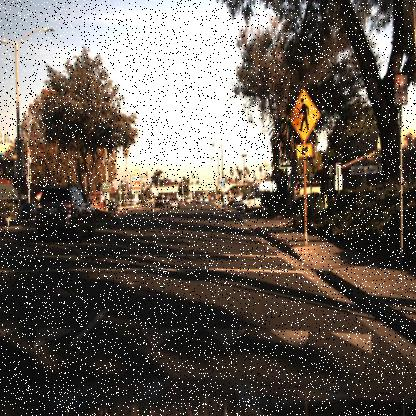car: (34, 182, 105, 244), (232, 188, 265, 214), (139, 194, 151, 210), (171, 192, 182, 209), (169, 196, 180, 212), (154, 194, 166, 208), (153, 195, 165, 208), (162, 196, 171, 208)
